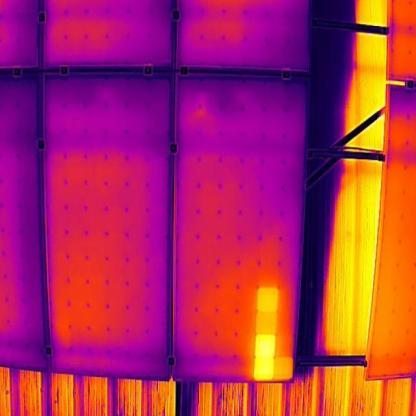anomaly: (250, 282, 297, 384)
